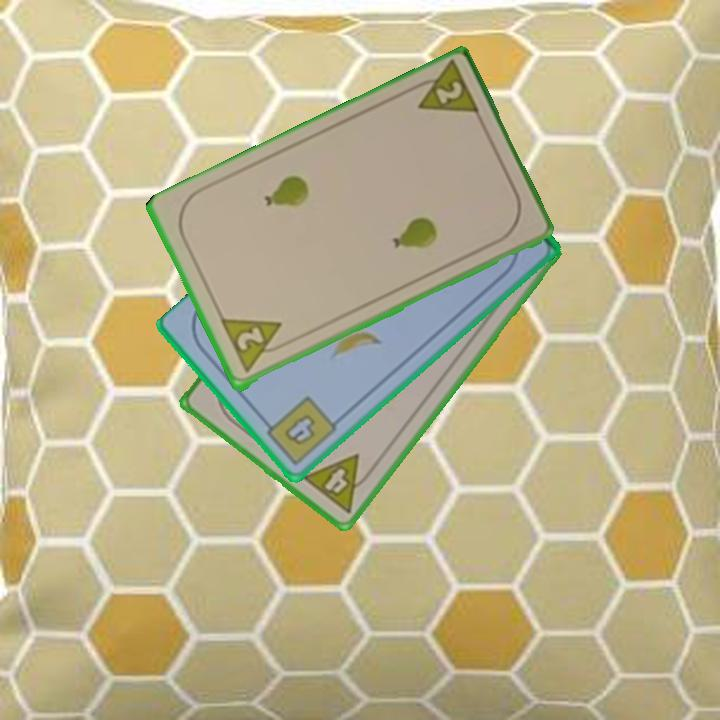2p: (404, 59, 483, 121), (217, 315, 293, 376)
4b: (258, 393, 340, 469)
4p: (298, 450, 378, 517)
